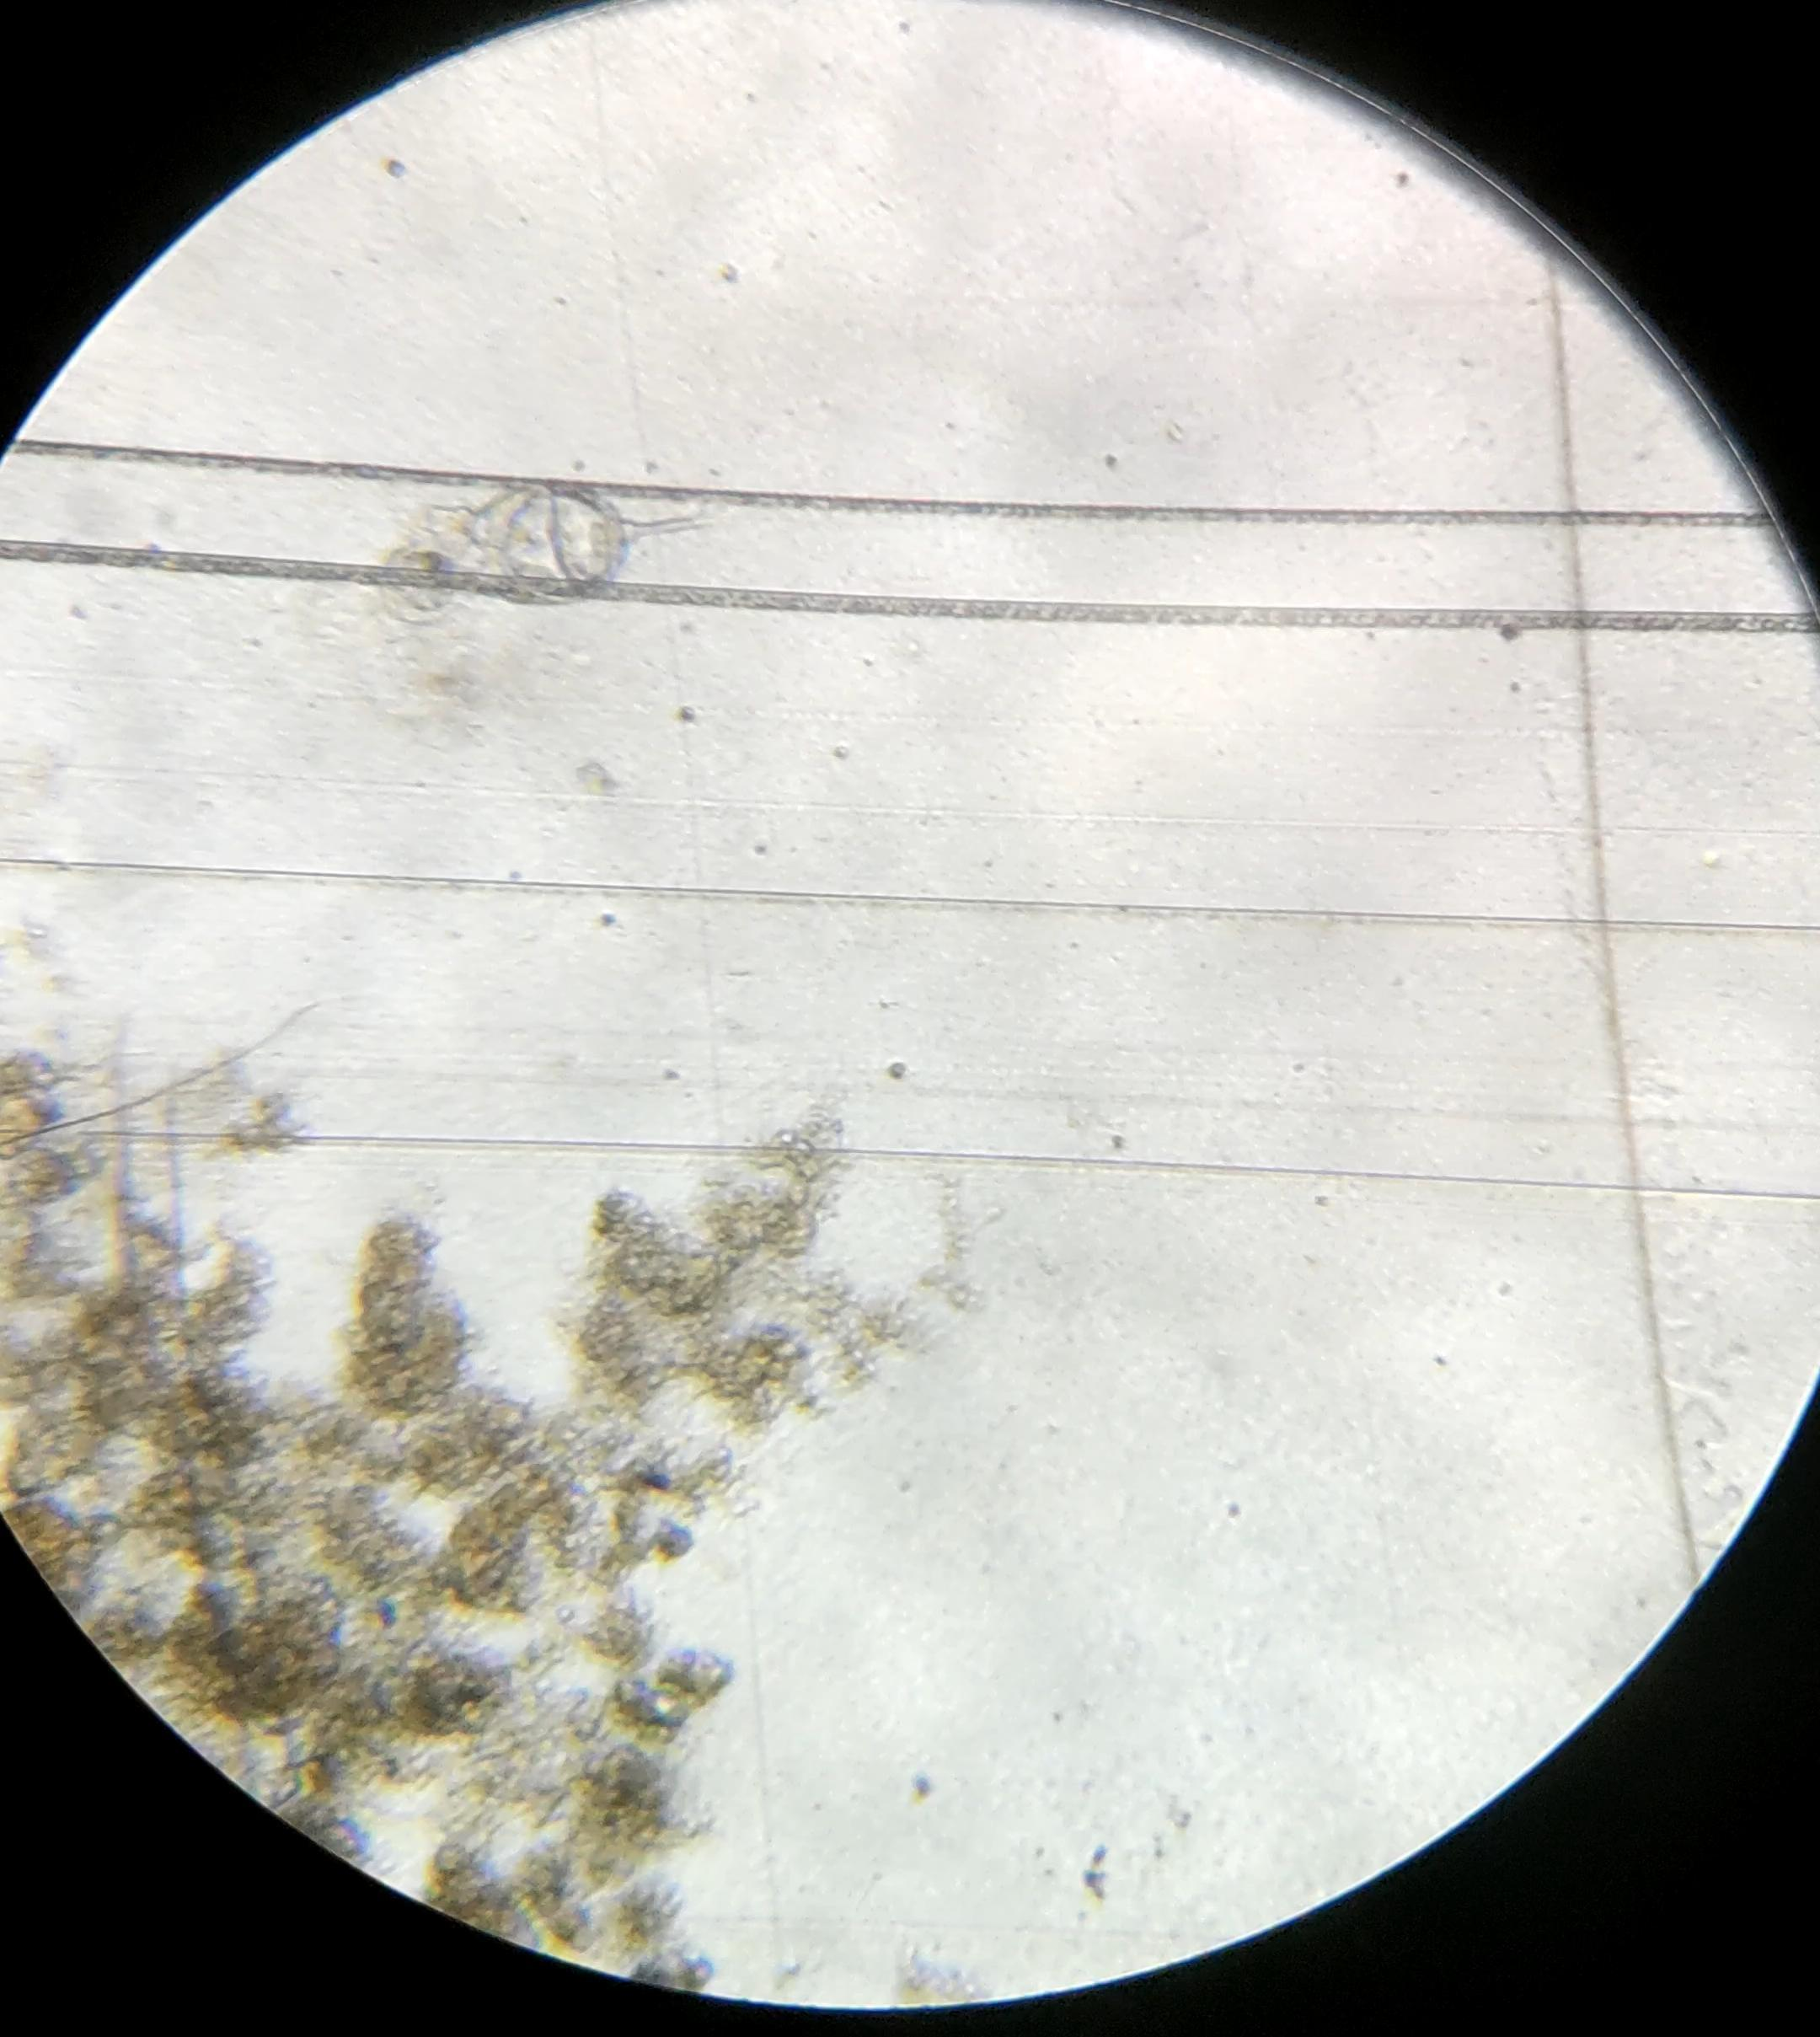Mo: (466, 482, 704, 605)
